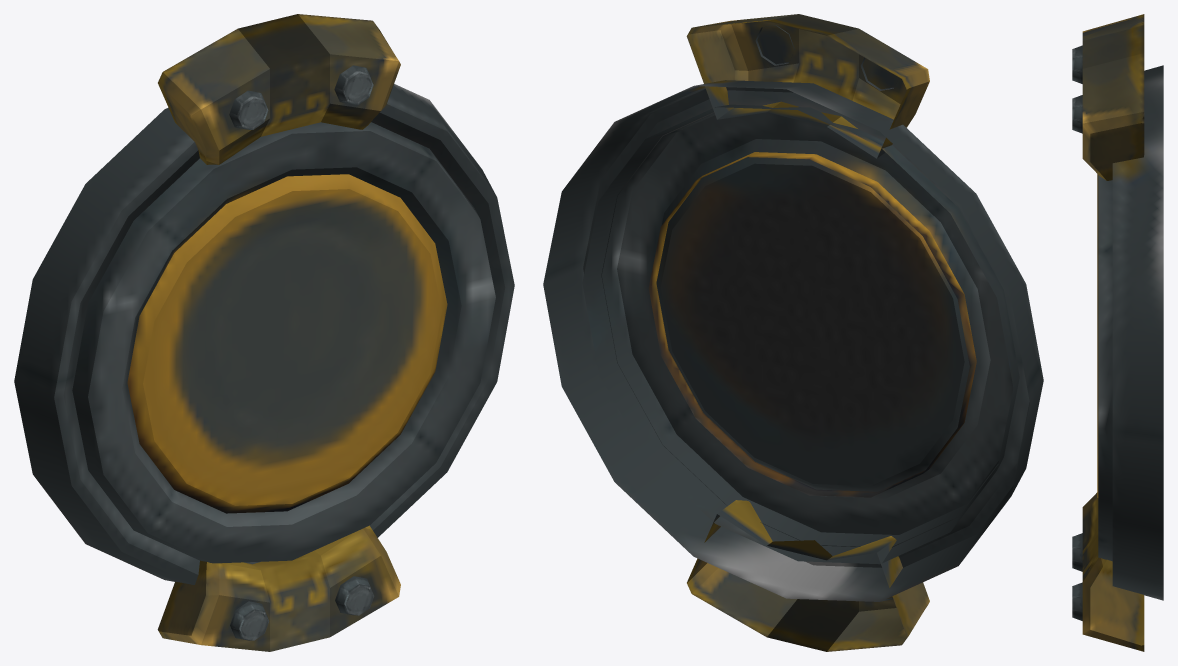
File: battle_button.DAE
3 views of the same model, side by side, from view 1: azimuth 30°, elevation 25°; view 2: azimuth 150°, elevation 25°; view 3: azimuth 270°, elevation 25° (orthographic). The views are drawn at different scales.
Visible parts, largest first — view 1: Group033, Cylinder090, Cylinder093, Cylinder098, Cylinder100, Cylinder094, Cylinder097, Cylinder096, Cylinder099; view 2: Cylinder090, Cylinder093, Cylinder098, Cylinder100, Group033; view 3: Cylinder093, Cylinder098, Cylinder090, Cylinder100, Group033, Cylinder097, Cylinder099, Cylinder096, Cylinder094.
Part boxes in pixels (box(x1,y1,x2,y2)): Group033: box(127, 174, 447, 513); Cylinder090: box(72, 122, 495, 563); Cylinder093: box(14, 84, 514, 584); Cylinder098: box(158, 14, 400, 164); Cylinder100: box(157, 525, 400, 651); Cylinder094: box(335, 576, 374, 615); Cylinder097: box(334, 65, 373, 104); Cylinder096: box(230, 601, 269, 640); Cylinder099: box(229, 90, 268, 129); Cylinder090: box(582, 104, 1019, 564); Cylinder093: box(543, 80, 1043, 601); Cylinder098: box(686, 14, 929, 158); Cylinder100: box(687, 500, 929, 651); Group033: box(648, 152, 976, 497); Cylinder093: box(1112, 65, 1163, 600); Cylinder098: box(1082, 14, 1144, 180); Cylinder090: box(1098, 175, 1112, 561); Cylinder100: box(1082, 492, 1144, 651); Group033: box(1097, 174, 1098, 497); Cylinder097: box(1072, 95, 1082, 133); Cylinder099: box(1072, 45, 1082, 83); Cylinder096: box(1072, 533, 1082, 571); Cylinder094: box(1072, 582, 1082, 620).
Size of the model in its own units: 111 by 134 by 18.96.
Materials: 9 (9 with a texture image).
